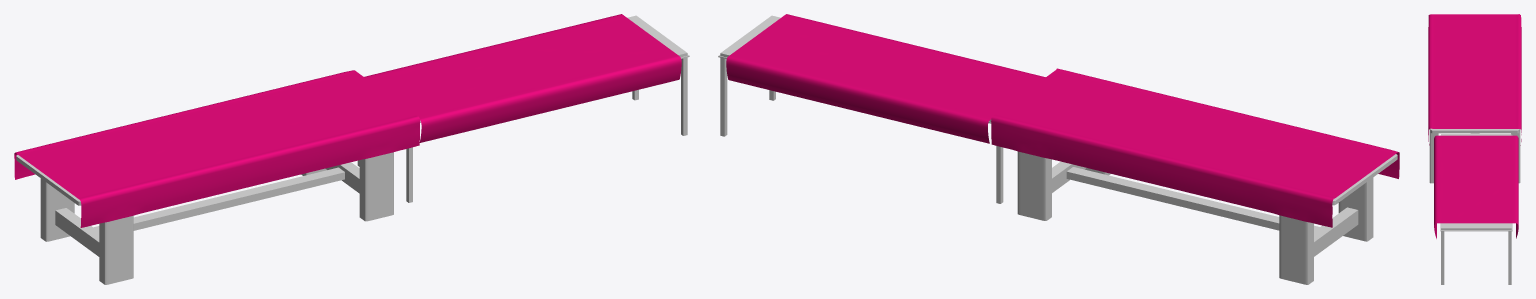
Rendered from MesasDeJantar_Refeitorio.fbx.
3 views of the same model, side by side, from view 1: azimuth 30°, elevation 25°; view 2: azimuth 150°, elevation 25°; view 3: azimuth 270°, elevation 25° (orthographic). The views are drawn at different scales.
Visible parts, largest first — view 1: ToalhaDeMesa1, ToalhaDeMesa2, MesaDeJantar1, MesaDeJantar2; view 2: ToalhaDeMesa1, ToalhaDeMesa2, MesaDeJantar1, MesaDeJantar2; view 3: ToalhaDeMesa1, ToalhaDeMesa2, MesaDeJantar2, MesaDeJantar1.
Part boxes in pixels (x1,y1,x2,y2): ToalhaDeMesa1: (14, 70, 420, 227); ToalhaDeMesa2: (364, 14, 681, 142); MesaDeJantar1: (16, 152, 393, 284); MesaDeJantar2: (357, 15, 689, 202); ToalhaDeMesa1: (991, 68, 1399, 227); ToalhaDeMesa2: (726, 14, 1045, 143); MesaDeJantar1: (1017, 151, 1397, 284); MesaDeJantar2: (718, 15, 1003, 203); ToalhaDeMesa1: (1428, 14, 1521, 145); ToalhaDeMesa2: (1434, 135, 1518, 238); MesaDeJantar2: (1440, 134, 1512, 284); MesaDeJantar1: (1429, 128, 1520, 183).
Size of the model in its own units: 5.46 by 1.03 by 0.7736.
